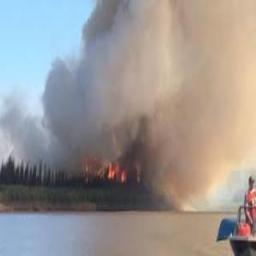Heavy smoke: (47, 0, 255, 207)
Small fire: (82, 158, 147, 182)
